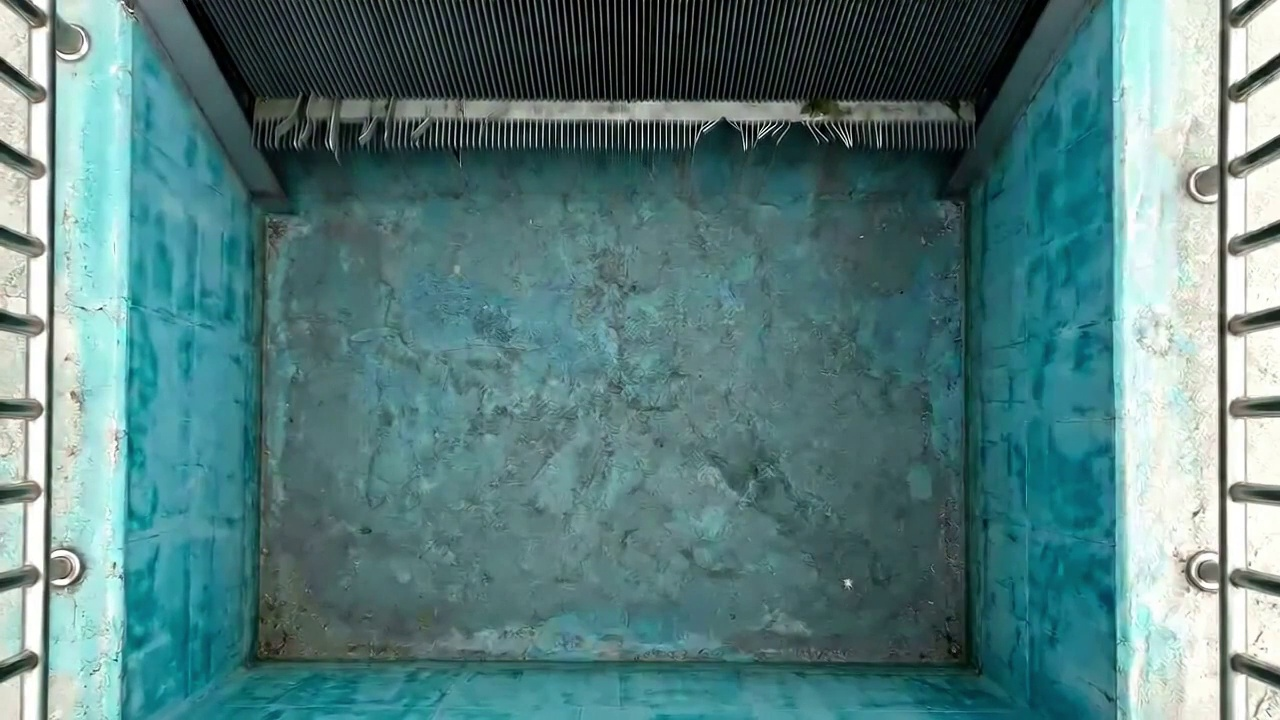damage: (680, 98, 893, 166), (268, 95, 456, 167)
